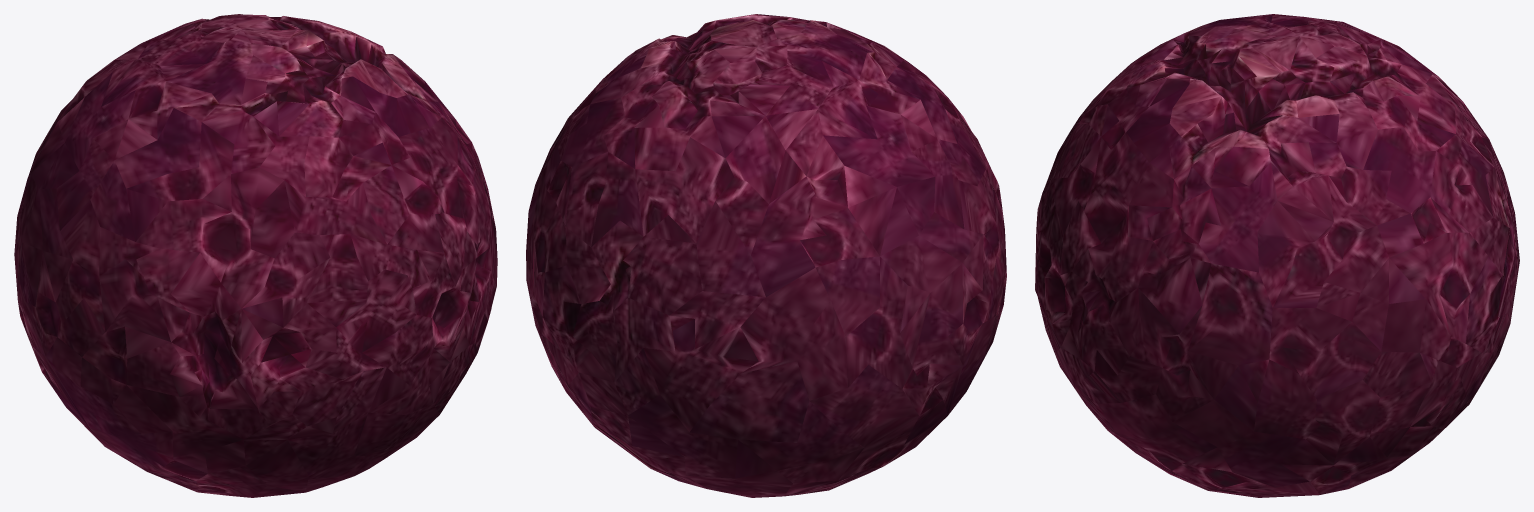
Rendered from moon_04.glb.
The picture shows the model from 3 angles, left to right: view 1: azimuth 30°, elevation 25°; view 2: azimuth 150°, elevation 25°; view 3: azimuth 270°, elevation 25°; orthographic projection.
Parts seen in each view (by area): view 1: Mesh_0.002; view 2: Mesh_0.002; view 3: Mesh_0.002.
Boxes of the visible parts, bbox=[...] form: Mesh_0.002: bbox=[14, 14, 497, 497]; Mesh_0.002: bbox=[526, 14, 1006, 497]; Mesh_0.002: bbox=[1035, 14, 1519, 497].
Size of the model in its own units: 1.9 by 1.9 by 1.9.
Materials: 1 (1 with a texture image).
